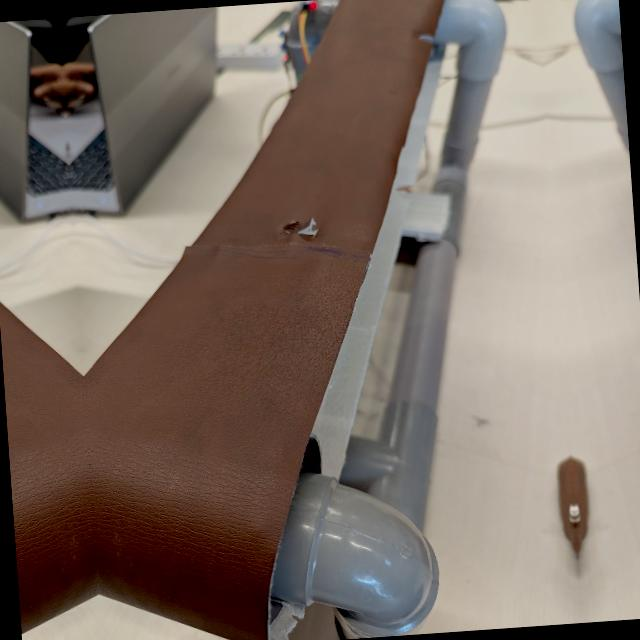joint_damage: (261, 212, 346, 247)
